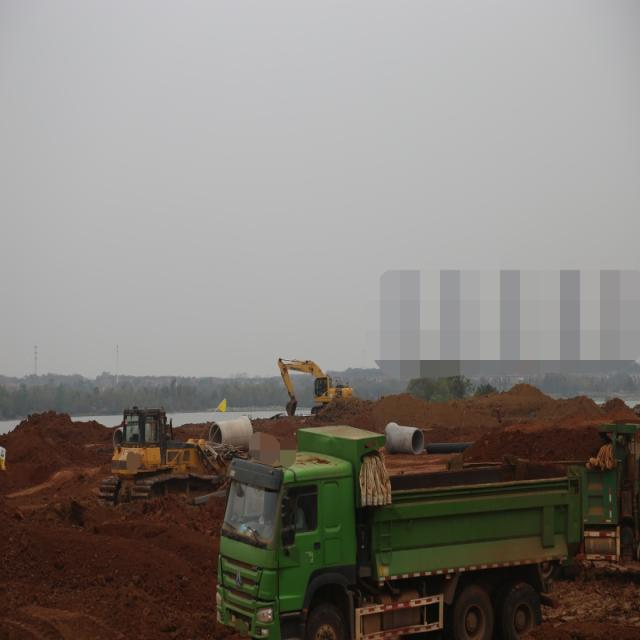excavator: (277, 358, 353, 418)
machinery: (97, 407, 227, 506)
truck: (215, 424, 581, 639), (555, 425, 640, 561)
